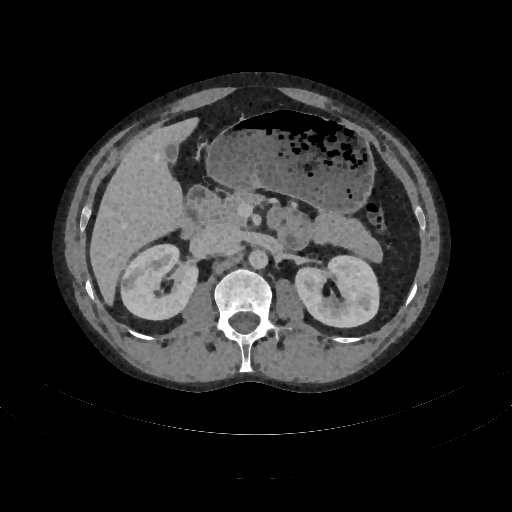Lesion: (120, 276, 139, 290)
